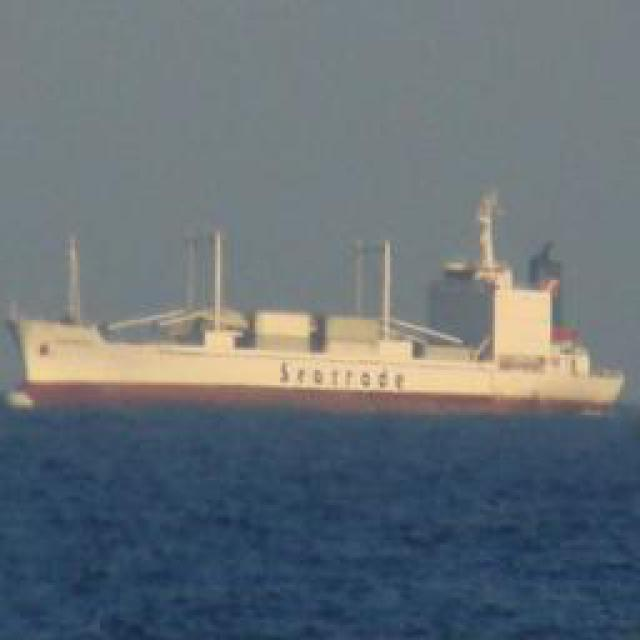Ship: (17, 216, 625, 416)
